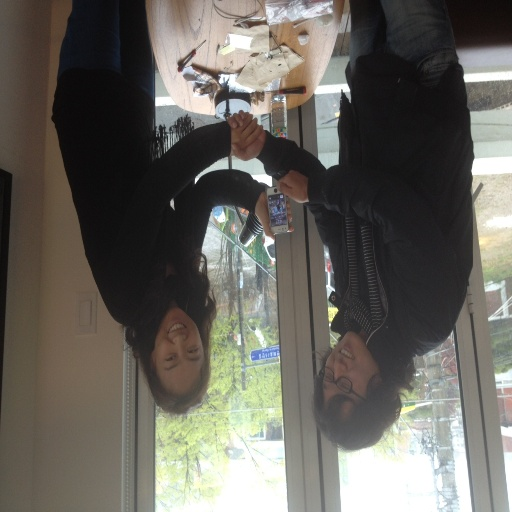hand: (252, 191, 294, 240), (227, 109, 265, 157), (275, 166, 309, 203)
